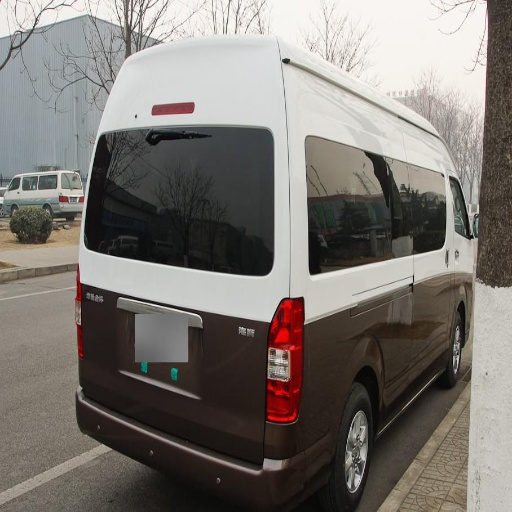back_bumper: (134, 411, 341, 505)
back_glass: (88, 173, 266, 273), (130, 56, 232, 100)
back_right_door: (383, 329, 408, 403)
back_right_light: (269, 300, 305, 395)
trunk: (86, 264, 443, 450), (121, 116, 262, 176)
